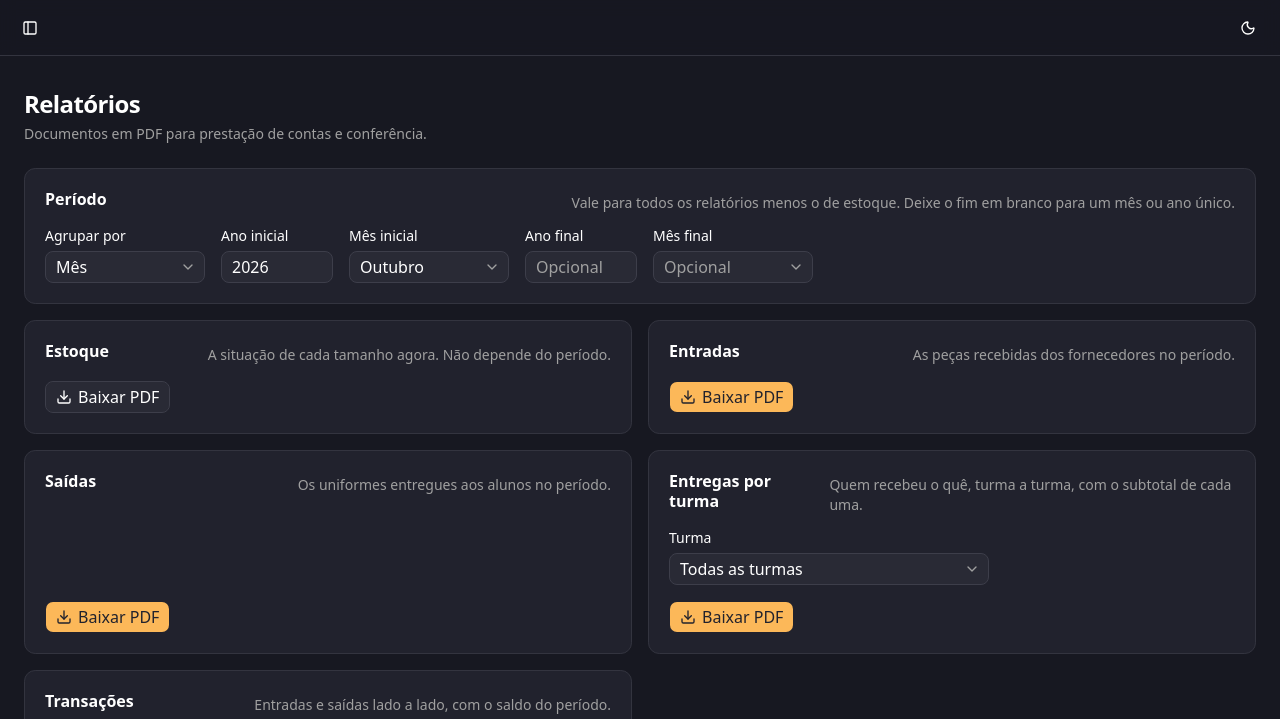
it: RelatoriosPage › exige o mês inicial quando o filtro é mensal
Click the dropdown named "Mês inicial": (429, 267) [349,251,509,283]
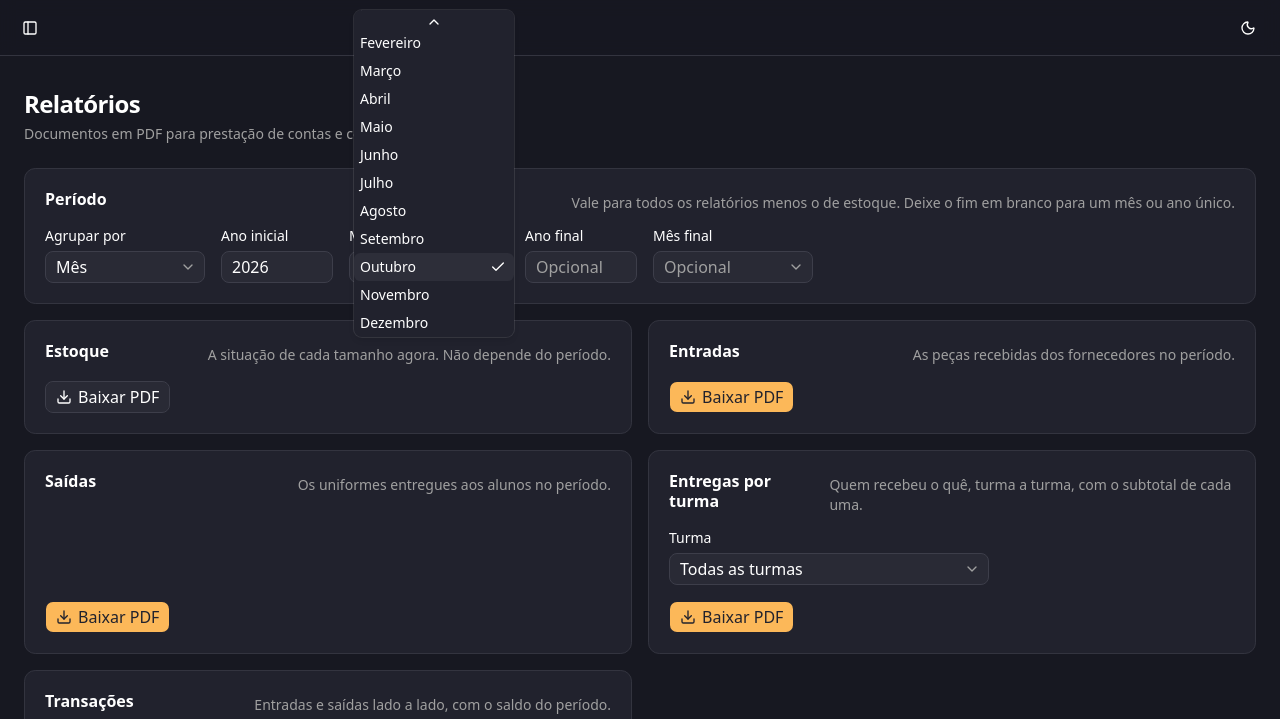
Press Escape
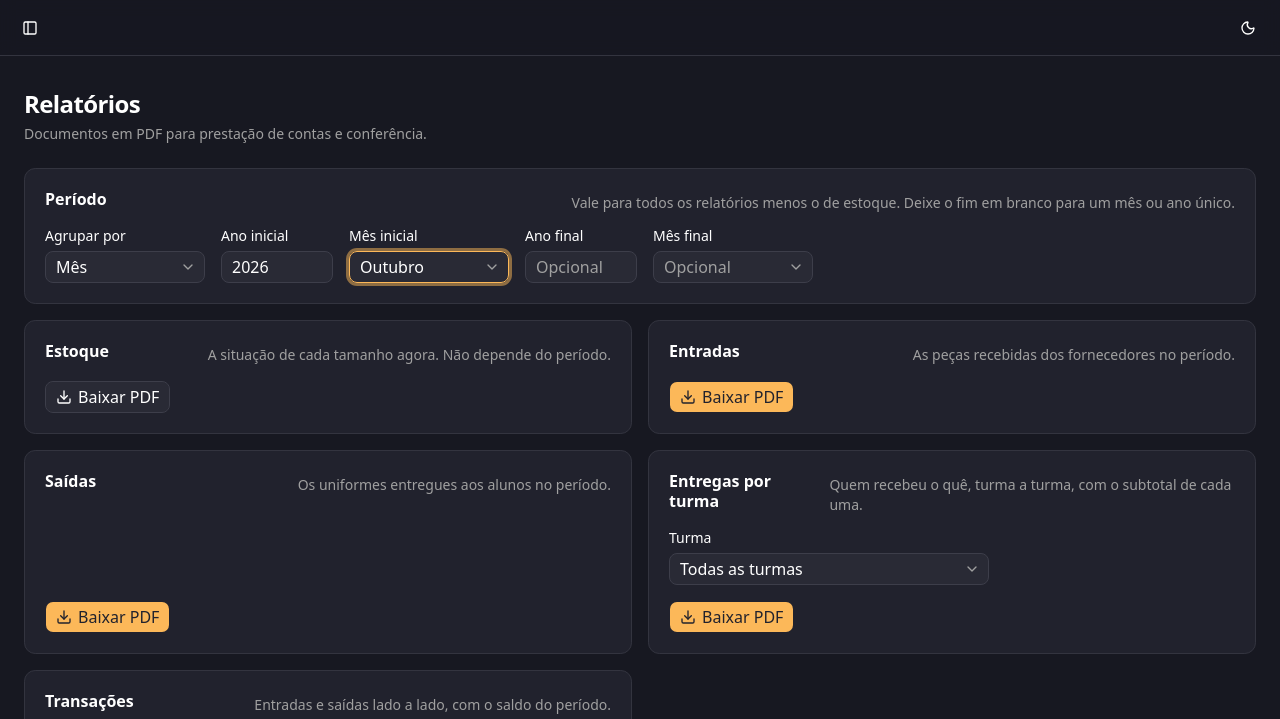
Note: Zera o ano para disparar a validação sem depender do mês pré-preenchido.
Clear the number field labelled "Ano inicial": (277, 267) [221,251,333,283]
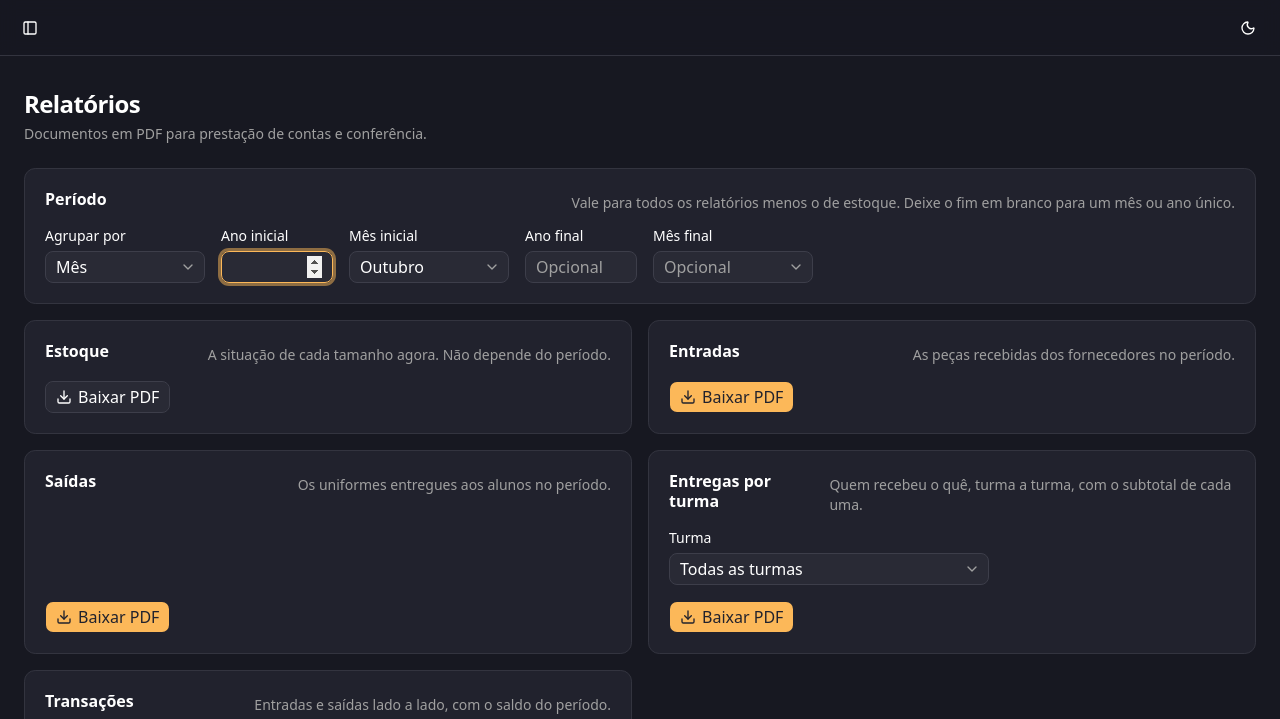
Click the 2nd button "Baixar PDF": (732, 397) [669,381,794,413]
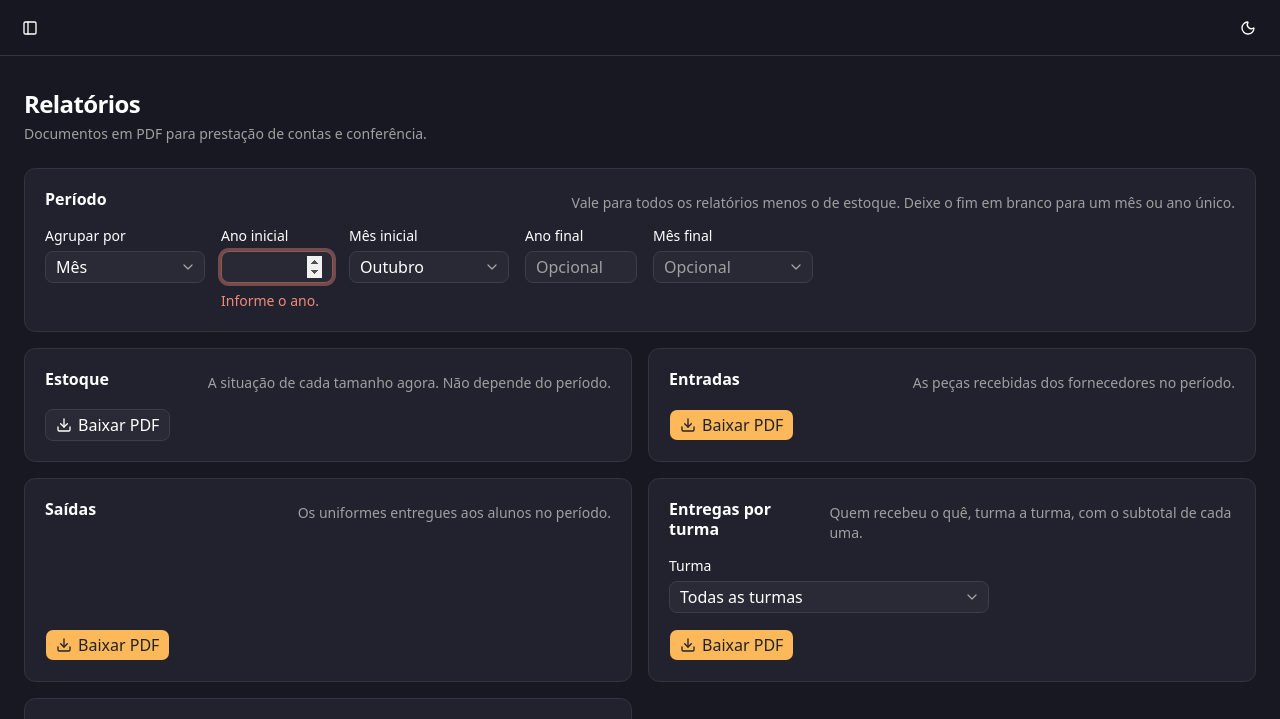
Now the text "Informe o ano." is shown, box [221,291,333,311]
